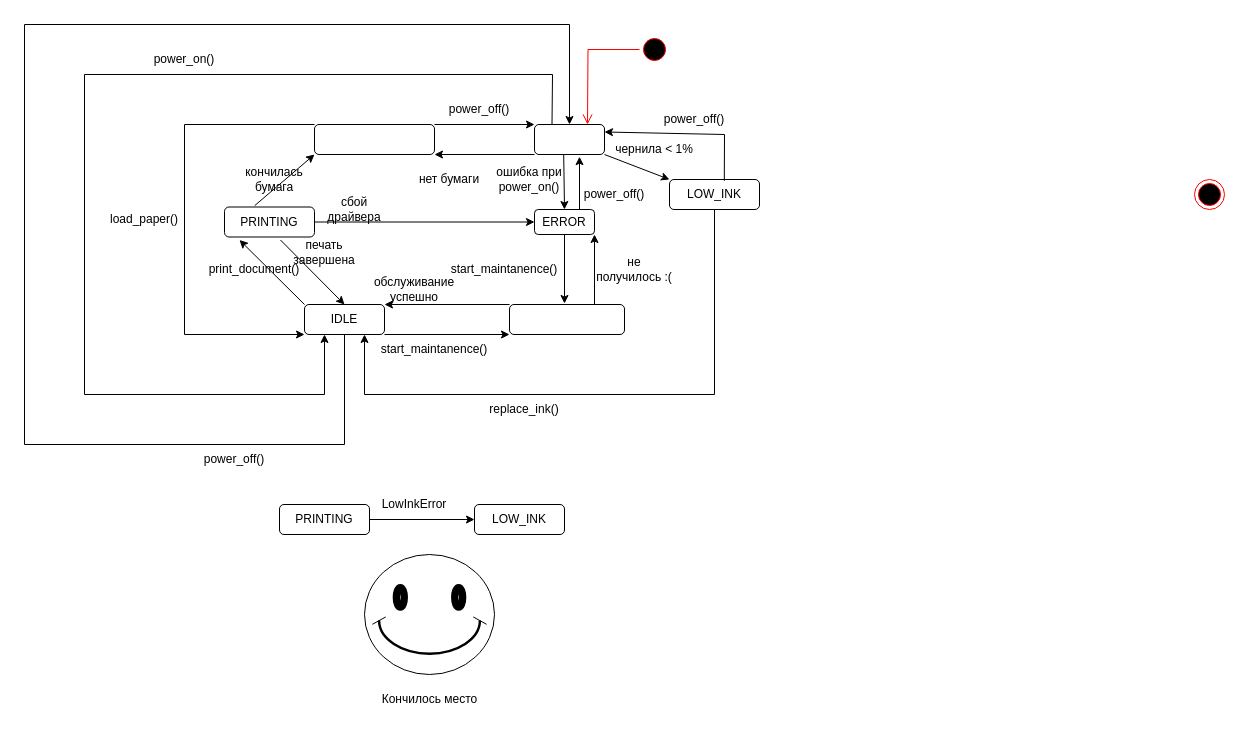
Some shapes in this 1242 by 732 pixel diagram are drawn without their labels. The centre of each missing label's shape, as x and y in pixels:
"MAINTANENCE" goes at [566,319].
"OFF" goes at [569,139].
"OUT_OF_PAPER" goes at [374,139].
